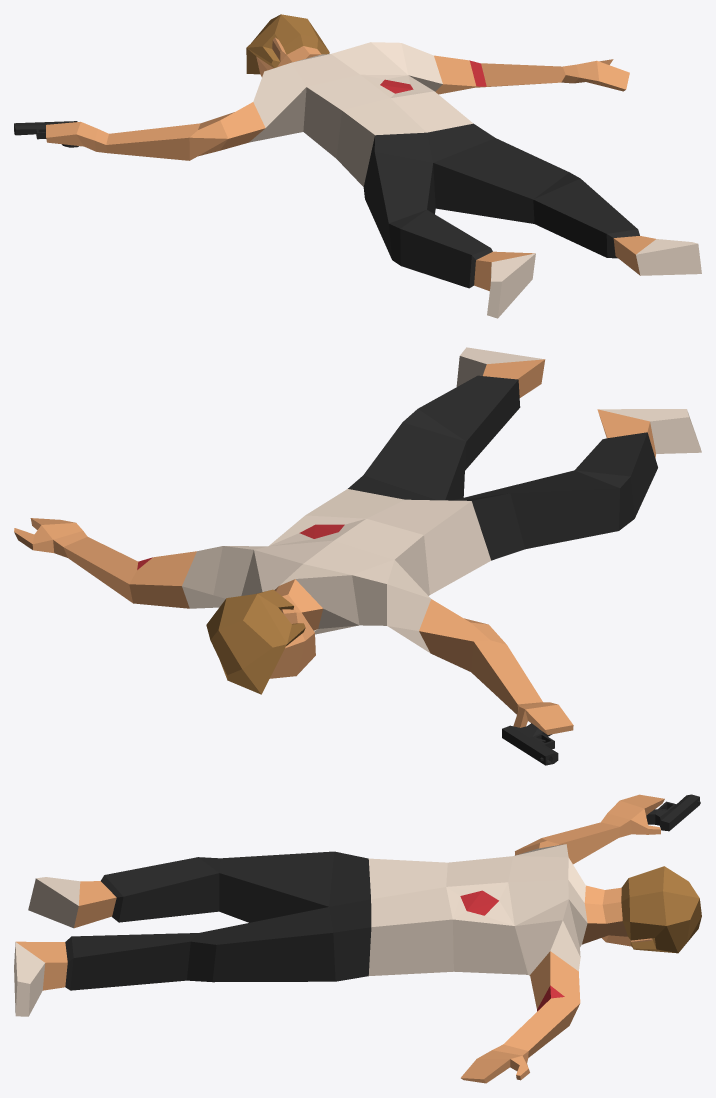
File: apocalypse-man-shirt-dead-a.glb
3 renders of one model, top to bottom at view 1: azimuth 30°, elevation 25°; view 2: azimuth 150°, elevation 25°; view 3: azimuth 270°, elevation 25°, orthographic. The views are drawn at different scales.
Parts seen in each view (by area): view 1: man-shirt-dead-a; view 2: man-shirt-dead-a; view 3: man-shirt-dead-a.
Boxes of the visible parts, x1=… form: man-shirt-dead-a: x1=14, y1=14, x2=701, y2=318; man-shirt-dead-a: x1=14, y1=347, x2=701, y2=765; man-shirt-dead-a: x1=14, y1=794, x2=701, y2=1083.
Size of the model in its own units: 1.76 by 0.2524 by 1.82.
